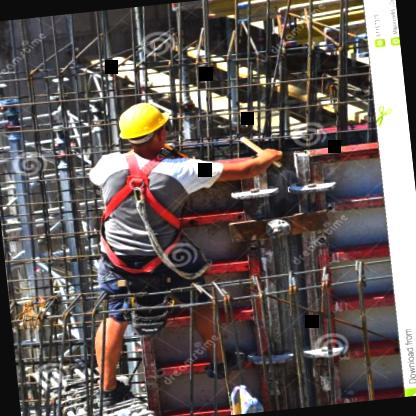helmet: (108, 92, 180, 160)
